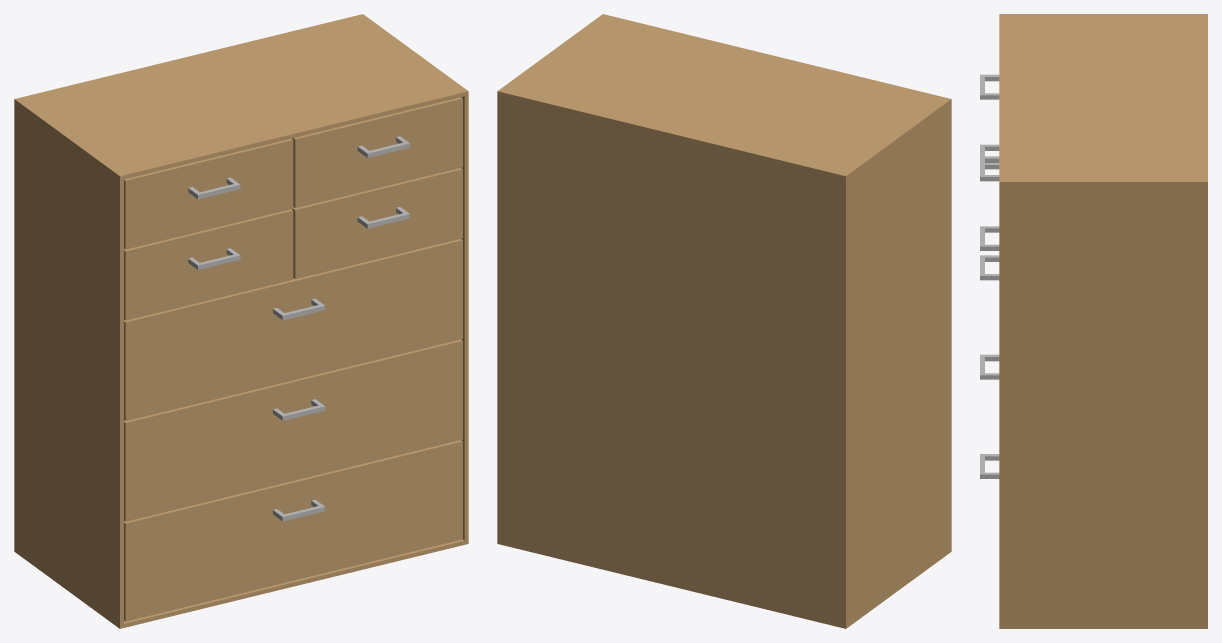
The model's file is low_poly_drawer_2.glb.
3 renders of one model, left to right at view 1: azimuth 30°, elevation 25°; view 2: azimuth 150°, elevation 25°; view 3: azimuth 270°, elevation 25°, orthographic.
Visible parts, largest first — view 1: drawer2; view 2: drawer2; view 3: drawer2.
Boxes of the visible parts, x1,y1,x2,y2 form: drawer2: (14, 14, 468, 628); drawer2: (497, 14, 951, 628); drawer2: (980, 14, 1207, 628).
Size of the model in its own units: 82 by 103 by 47.
